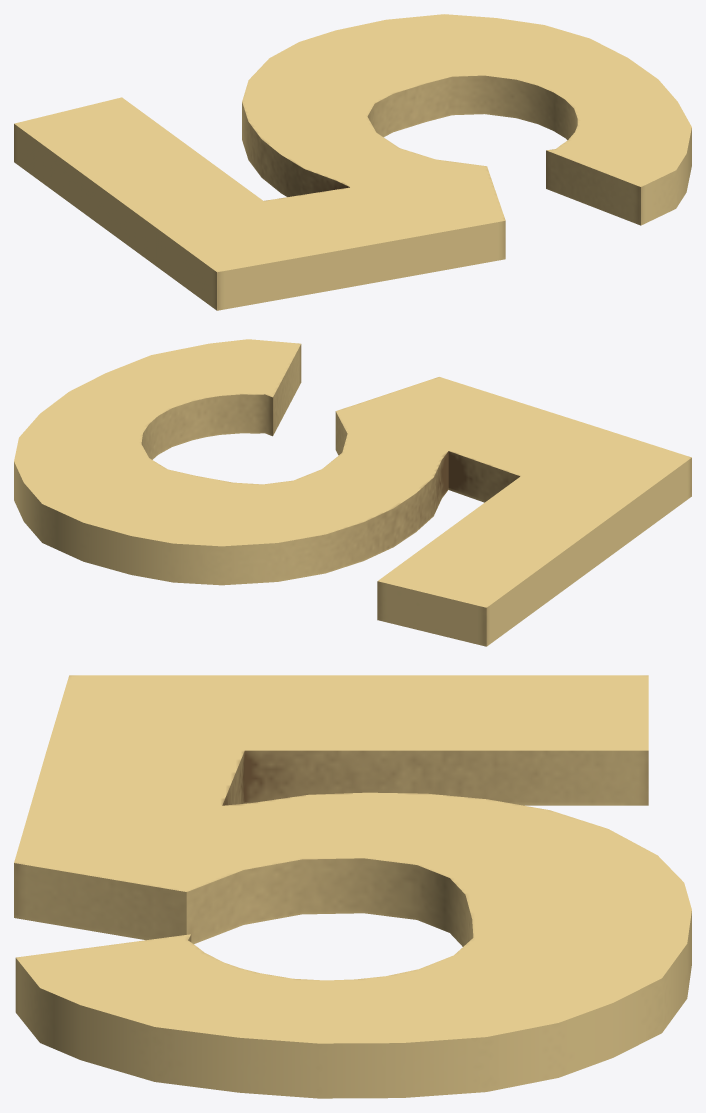
File: 5_Gold.glb
3 views of the same model, one above another, from view 1: azimuth 30°, elevation 25°; view 2: azimuth 150°, elevation 25°; view 3: azimuth 270°, elevation 25° (orthographic). The views are drawn at different scales.
Visible parts, largest first — view 1: 5*; view 2: 5*; view 3: 5*.
Part boxes in pixels (box(x1,y1,x2,y2)): 5*: box(14, 14, 691, 310); 5*: box(14, 339, 691, 646); 5*: box(14, 675, 691, 1098).
Bounding box in the file's own units: 0.5498 × 0.0383 × 0.4279.
Materials: 1 (1 with a texture image).
